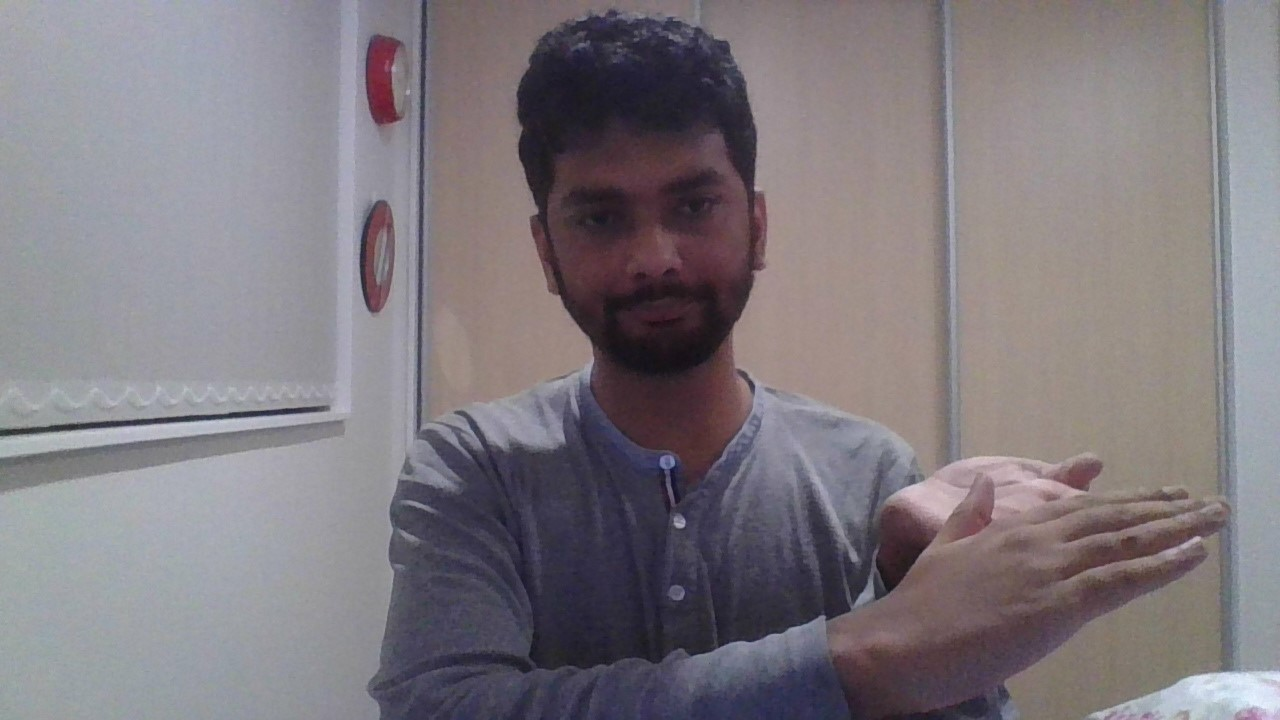clear: (846, 450, 1236, 715)
